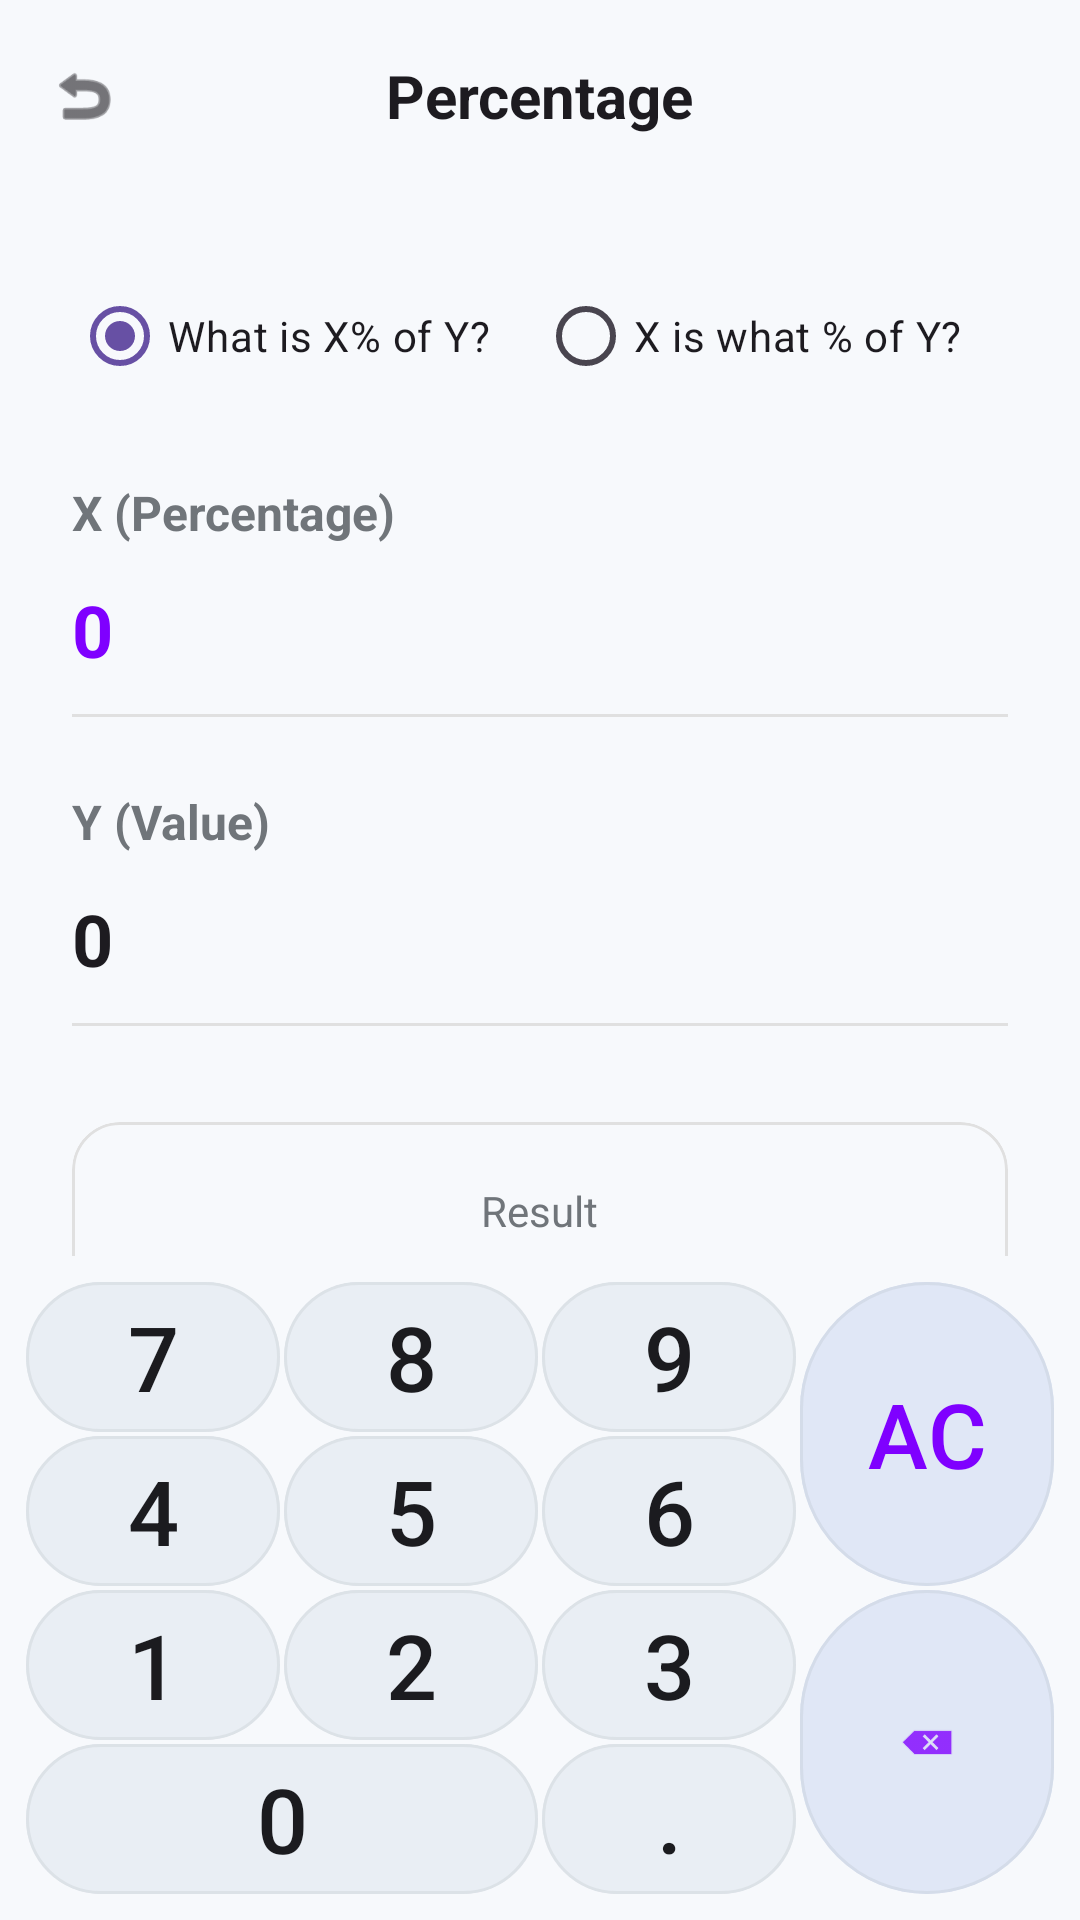

Icons on this 1080*1920 Android screen, each with the point to tap as (x,y):
delete: (927,1742)
revert: (85,96)
